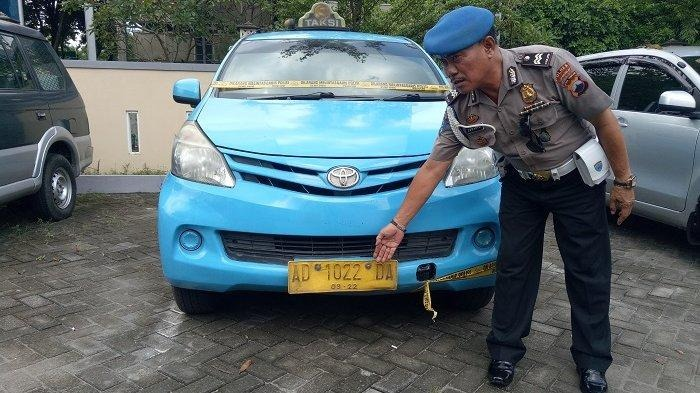plat nomor: (287, 260, 396, 291)
